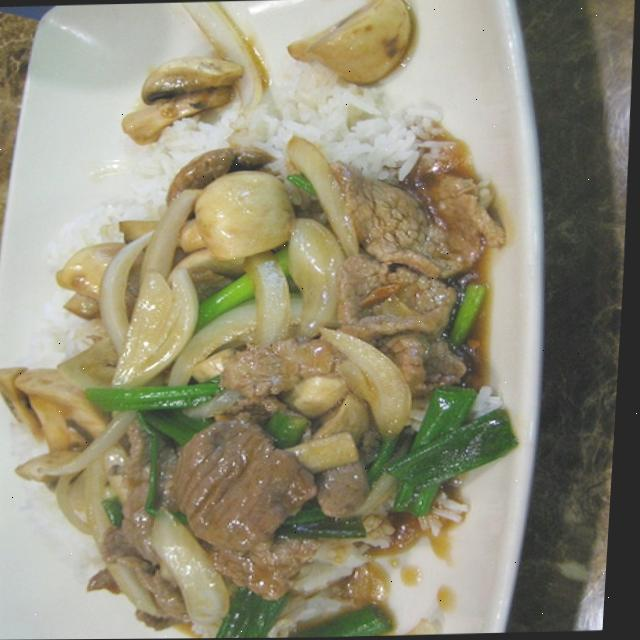牛肉菜式: (0, 35, 534, 640)
